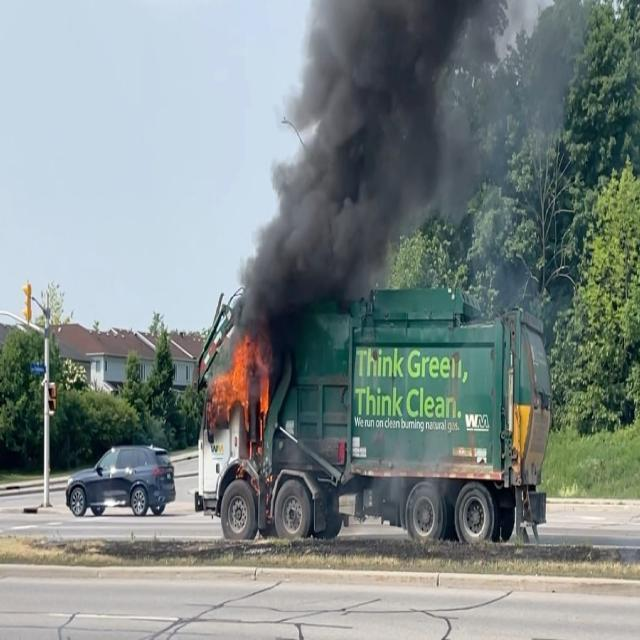Fire: (205, 336, 272, 416)
Smoke: (276, 0, 565, 232), (236, 235, 384, 332)
